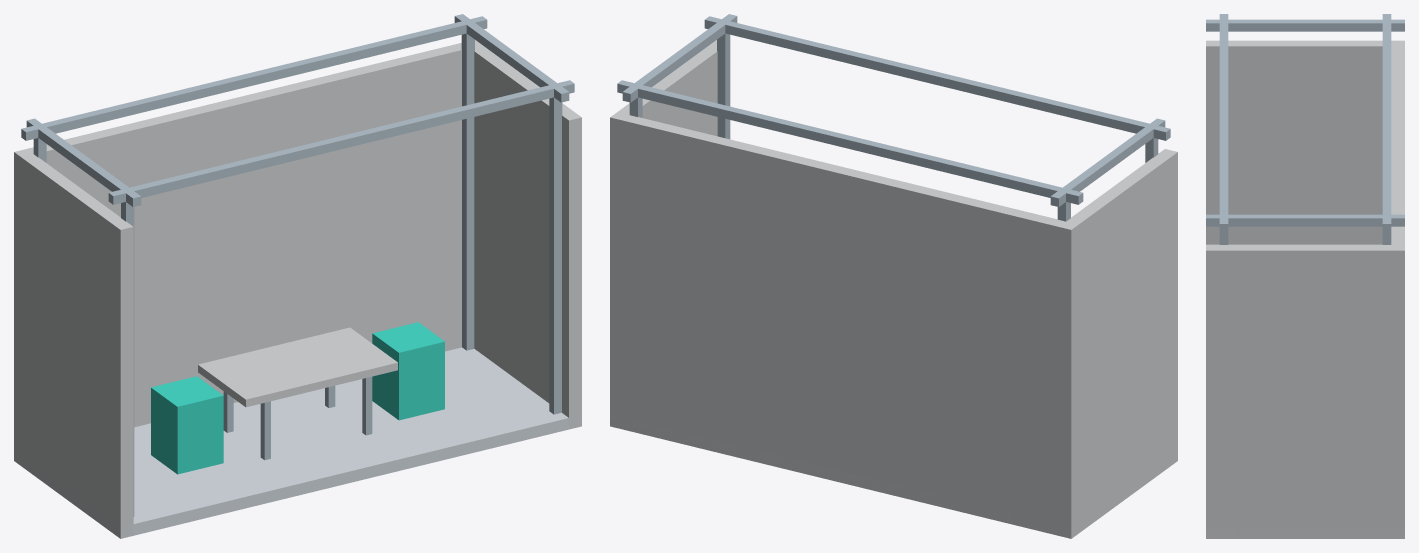
3 renders of one model, left to right at view 1: azimuth 30°, elevation 25°; view 2: azimuth 150°, elevation 25°; view 3: azimuth 270°, elevation 25°, orthographic. The views are drawn at different scales.
Parts seen in each view (by area): view 1: Exhibition Booth Concept; view 2: Exhibition Booth Concept; view 3: Exhibition Booth Concept.
Boxes of the visible parts, x1,y1,x2,y2 form: Exhibition Booth Concept: (14, 14, 581, 538); Exhibition Booth Concept: (610, 14, 1177, 538); Exhibition Booth Concept: (1206, 14, 1404, 538).
Size of the model in its own units: 5 by 3.49 by 2.
